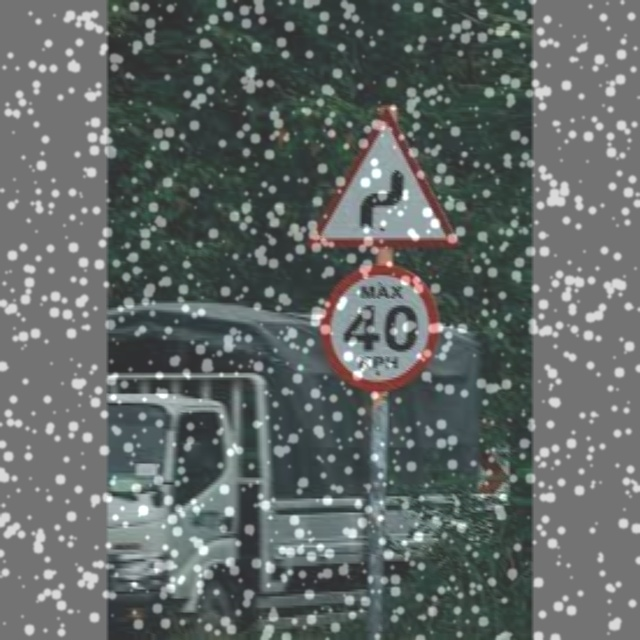Speed_Limit_40: (320, 262, 441, 389)
